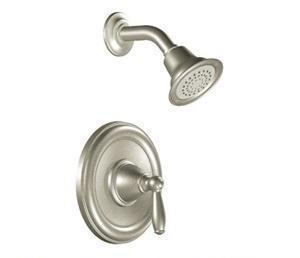Ducha: (73, 6, 219, 257)
